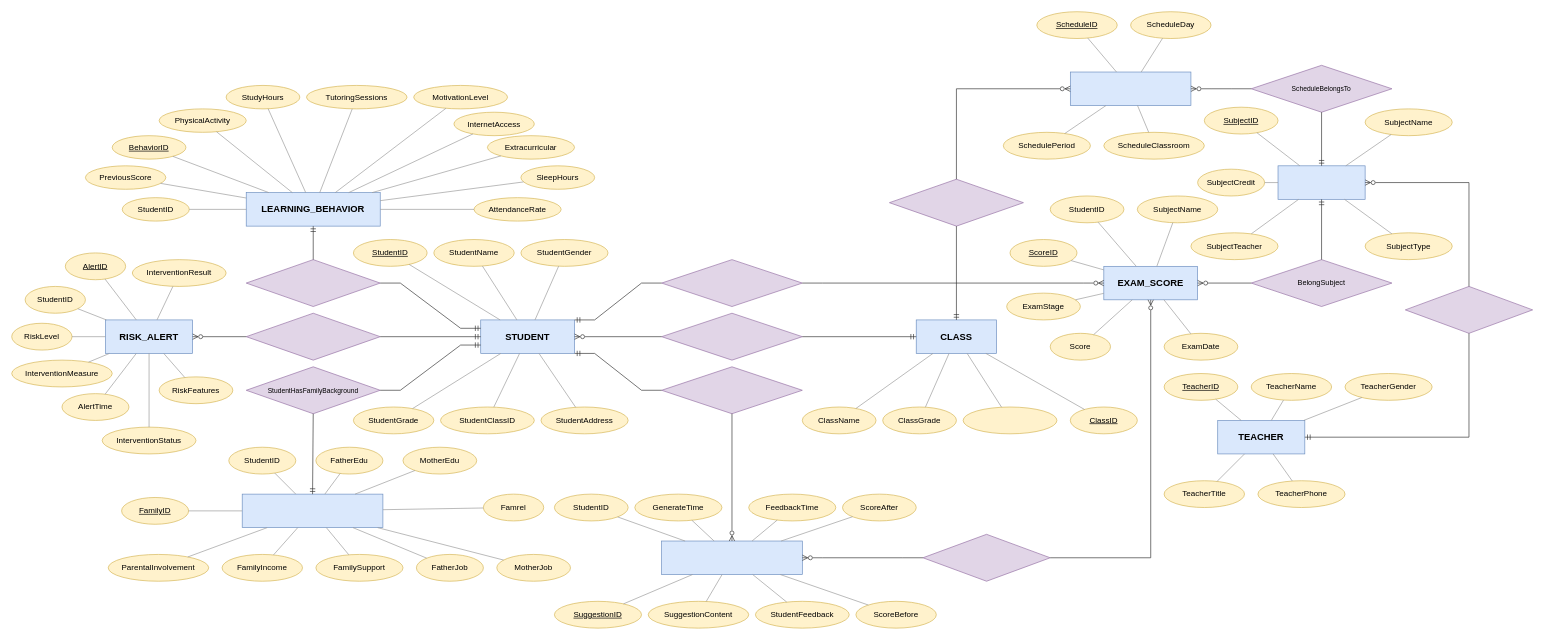
Some shapes in this 1544 by 640 pixel diagram are drawn without their labels. The shapes that lost their labels are listed below. From the top down, each one's centre as x and y in pixels, then its label:
point 1130,88: COURSE_SCHEDULE
point 956,202: ClassHasSchedule
point 1321,182: SUBJECT
point 313,283: StudentHaveLearningBehavior
point 731,283: HasScore
point 1469,309: TeacherTeachSubject
point 313,336: StudentReceiveRiskAlert
point 731,336: StudentStudyInClass
point 731,390: StudentReceiveSuggestion
point 1009,420: ClassTeacherID
point 312,510: FAMILY_BACKGROUND
point 731,557: LEARNING_SUGGESTION
point 986,557: SuggestionRelateScore
